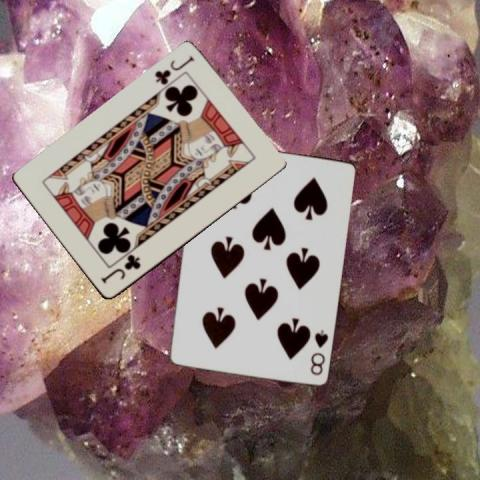8s: (308, 326, 330, 376)
Jc: (152, 54, 196, 88), (99, 253, 142, 286)
